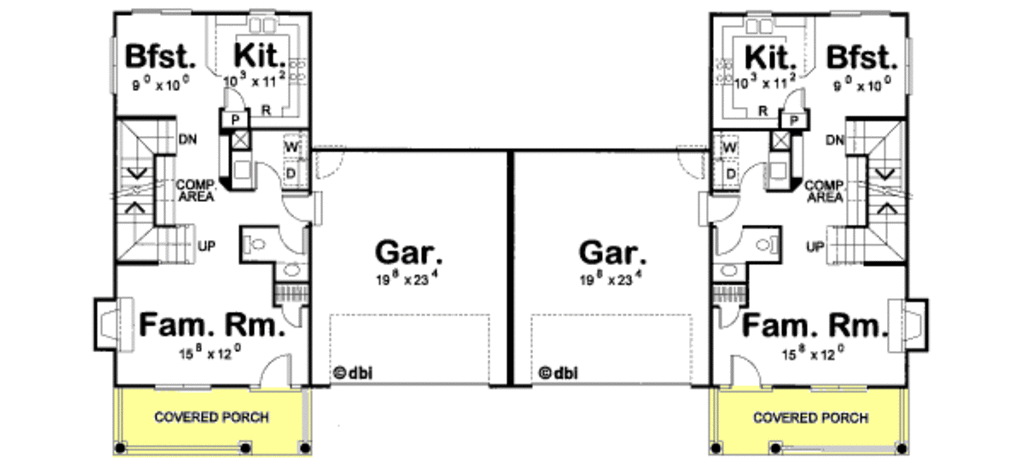door: (696, 191, 743, 228), (730, 353, 769, 394), (282, 192, 325, 224), (257, 352, 292, 390), (276, 219, 305, 256), (715, 298, 742, 332), (713, 227, 742, 258), (740, 158, 766, 192), (255, 162, 281, 193), (784, 80, 807, 114), (225, 81, 249, 111), (280, 303, 303, 330)
large_sink: (241, 232, 271, 261), (755, 231, 777, 261)
small_sink: (709, 261, 750, 286), (276, 257, 309, 282)
stairs: (111, 114, 197, 261), (828, 116, 906, 267)
twin_sink: (247, 9, 279, 38), (744, 12, 777, 40)
window: (135, 5, 198, 16), (827, 7, 889, 17), (108, 38, 118, 93), (906, 35, 912, 99)
